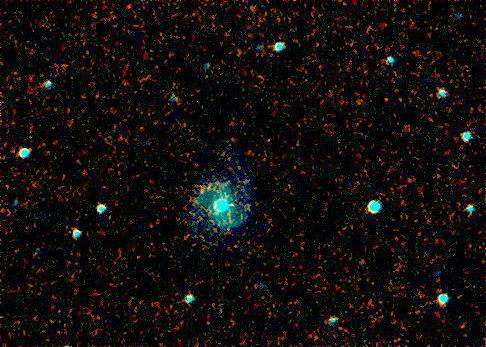star: (215, 190, 245, 220)
